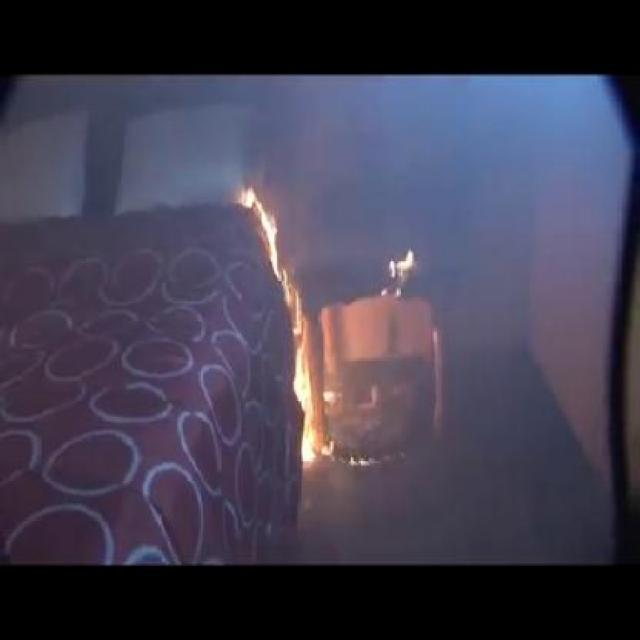fire: (224, 166, 360, 460), (374, 240, 432, 326)
